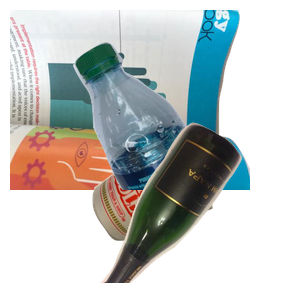glass: (87, 120, 300, 300)
paper: (10, 10, 250, 190)
plastic: (71, 39, 300, 219)
trash: (90, 129, 295, 300)
